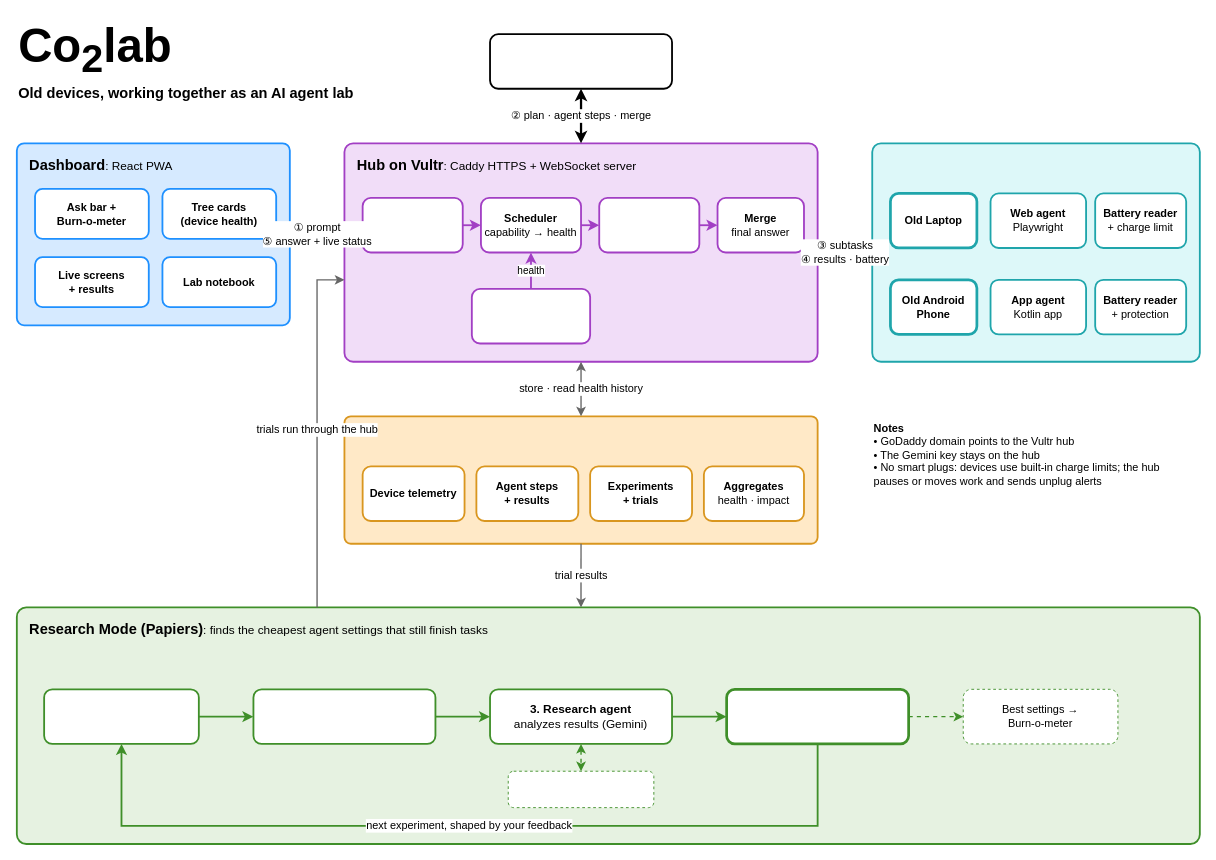
The diagram is 1216 pixels wide and 860 high, and some of its shapes have lost their labels. Each missing label, with the box of its shape:
1. Hypothesis: (43, 688, 199, 744)
2. Run trials settings × tasks × devices: (252, 688, 436, 744)
4. You review flag · approve · redirect: (725, 688, 910, 745)
Agent proxy screen → action: (598, 197, 700, 253)
Devices : each runs its own app: (871, 142, 1200, 362)
Gemini API Flash · Pro: (489, 33, 672, 89)
Health engine pauses / moves work: (470, 288, 591, 344)
Papiers: saves findings: (507, 770, 654, 808)
Planner splits prompt: (361, 197, 463, 253)
Tiger Data : time-series Postgres: (343, 415, 818, 544)
